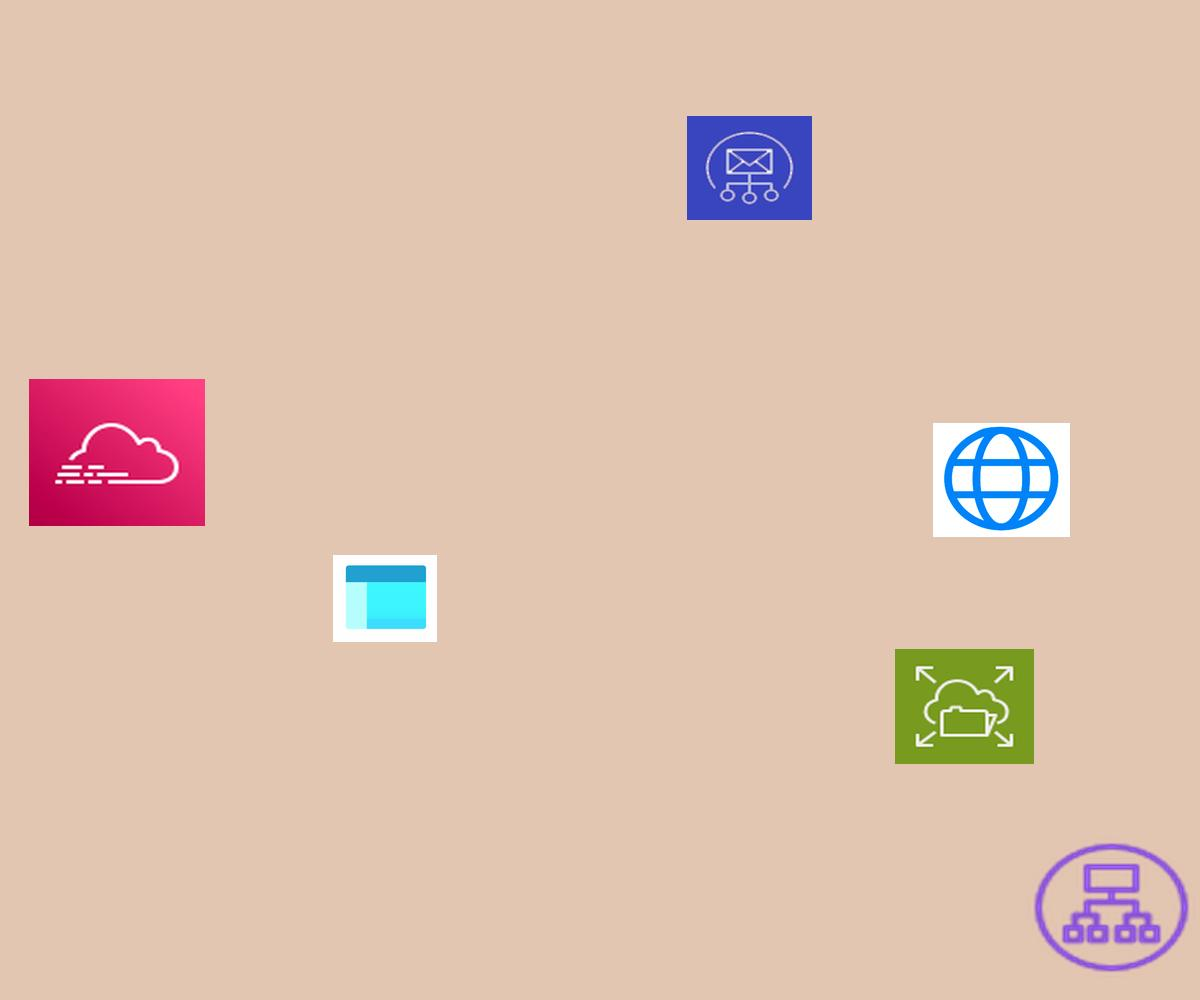AWS-CloudTrail: (29, 379, 205, 526)
AWS-EFS: (895, 649, 1034, 764)
AWS-Res_Elastic-Load-Balancing_Application-Load-Balancer: (1028, 838, 1195, 977)
AWS-Simple-Email-Service: (687, 116, 812, 220)
Azure_http: (933, 423, 1070, 537)
Azure_management-portal: (333, 555, 437, 642)
